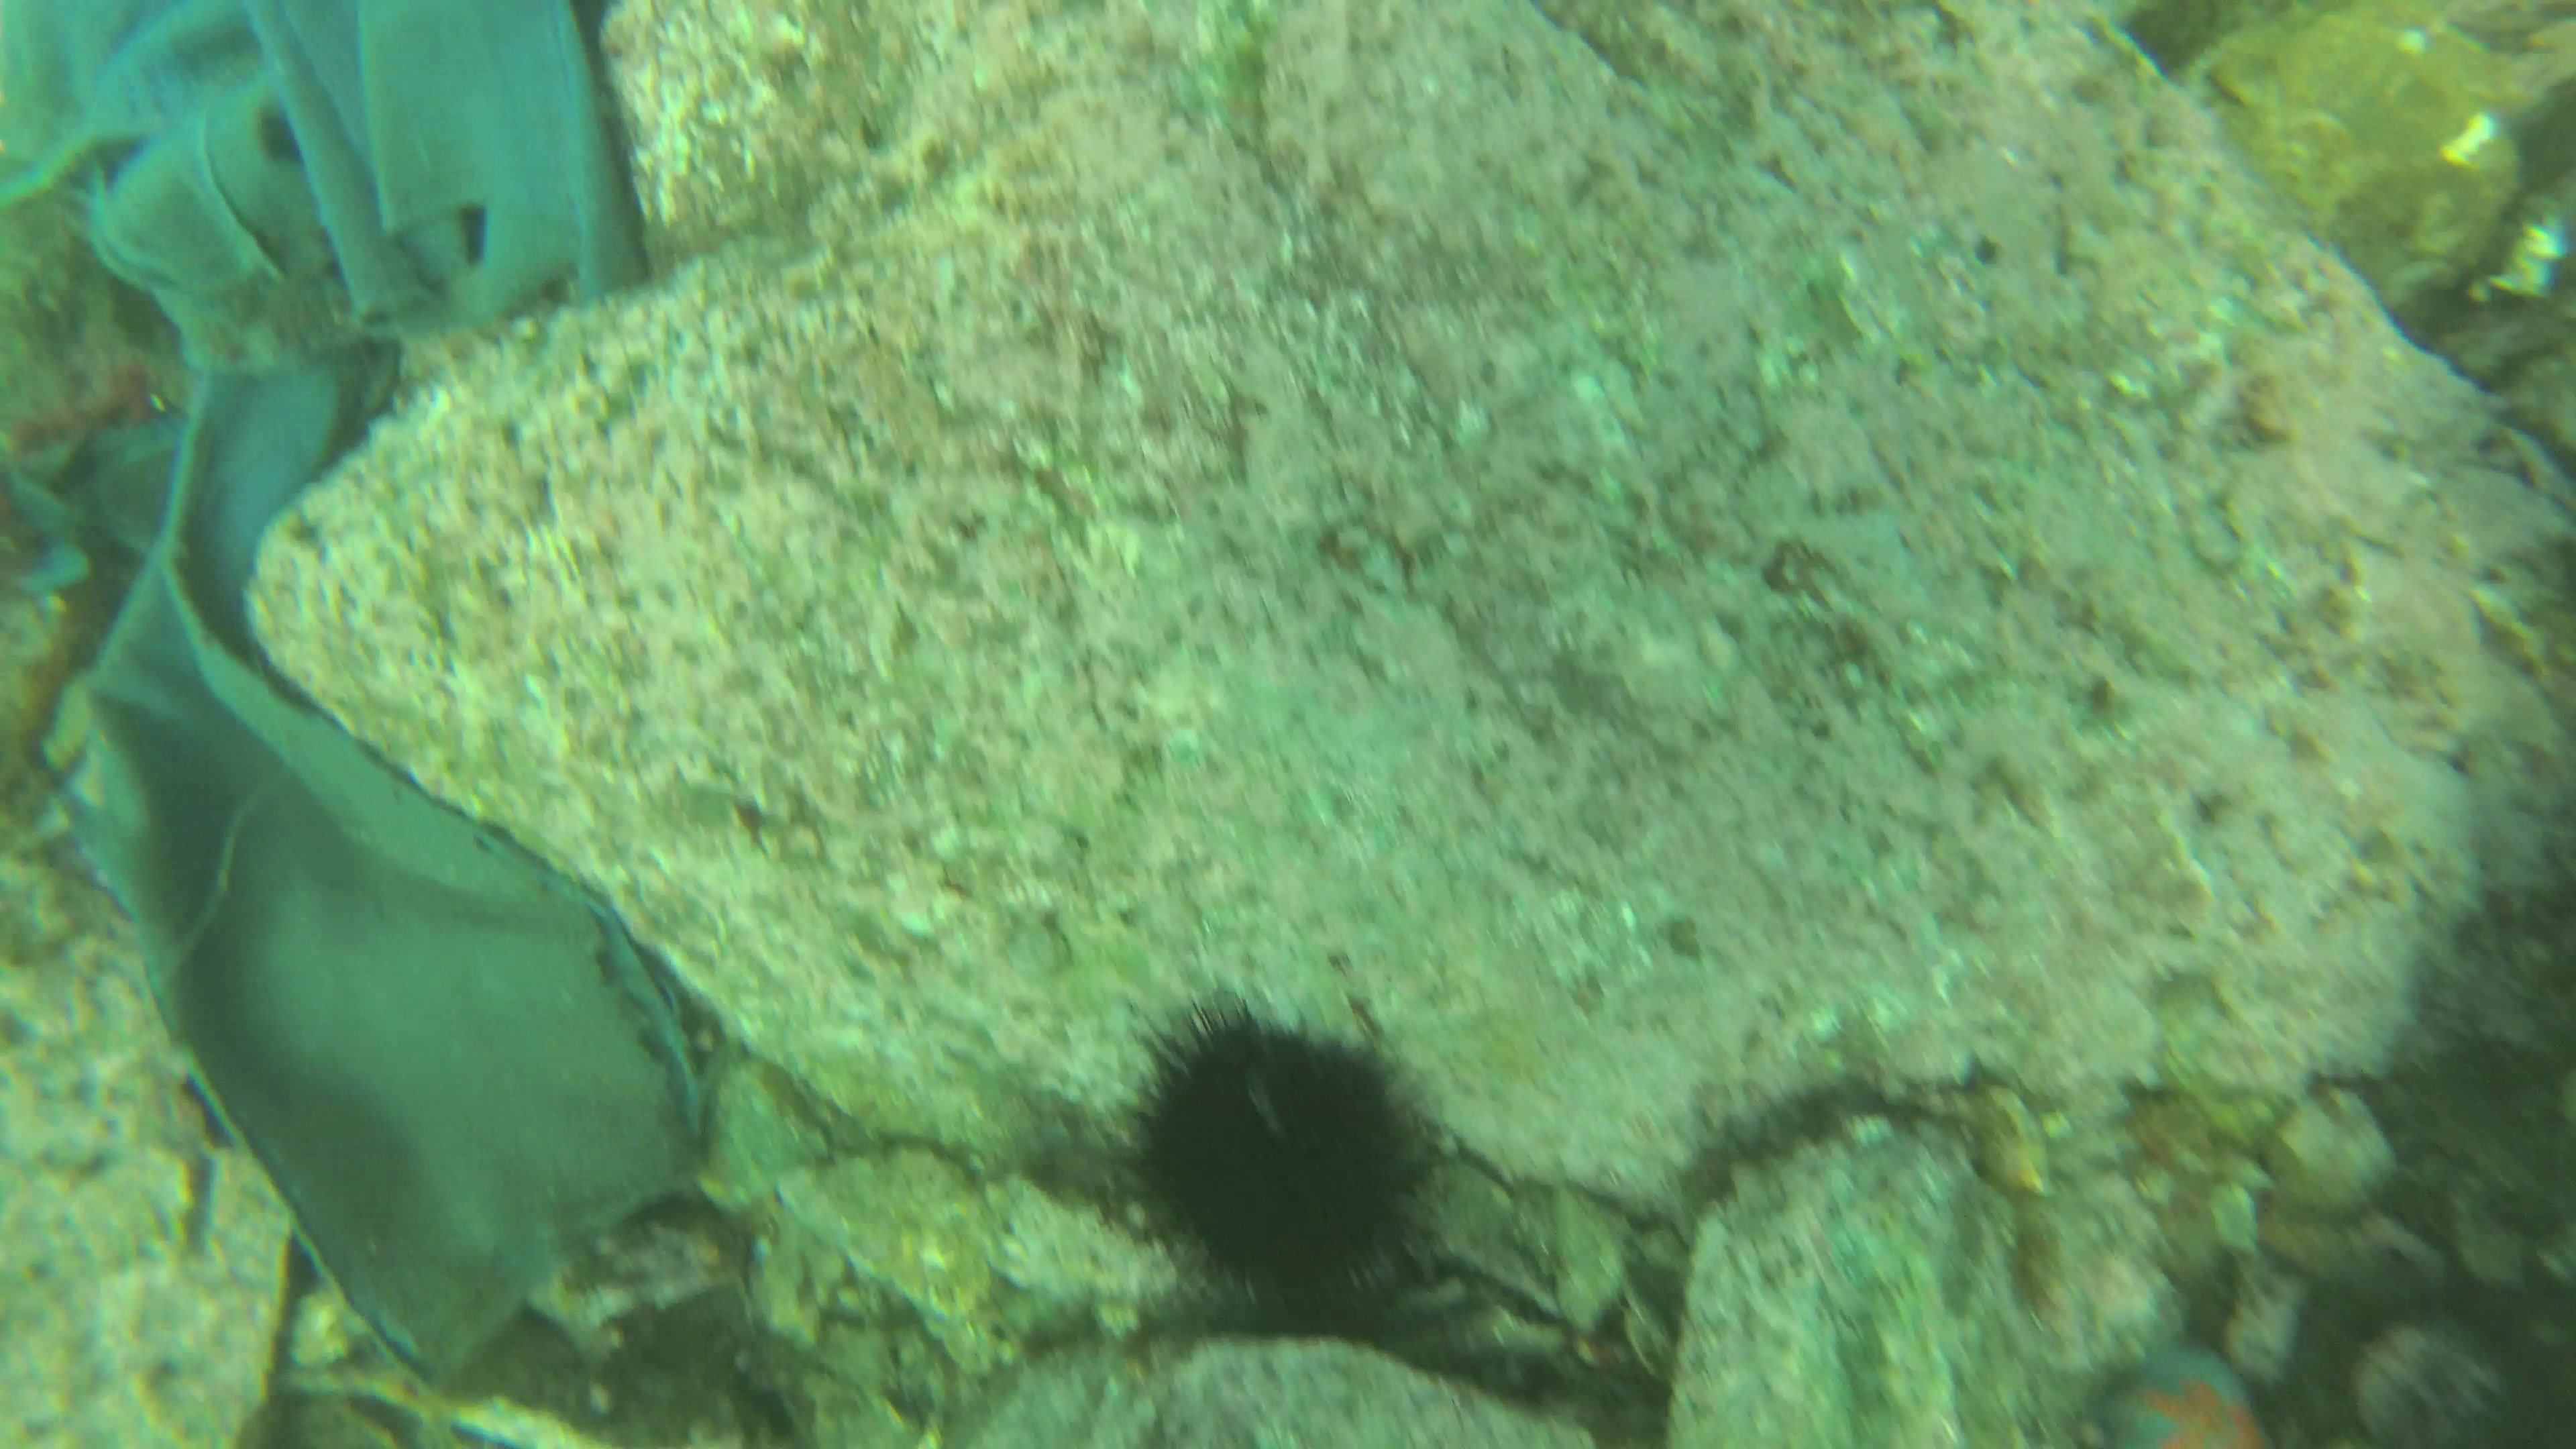echinus: (1099, 996, 1454, 1341)
starfish: (2086, 1338, 2282, 1449)
